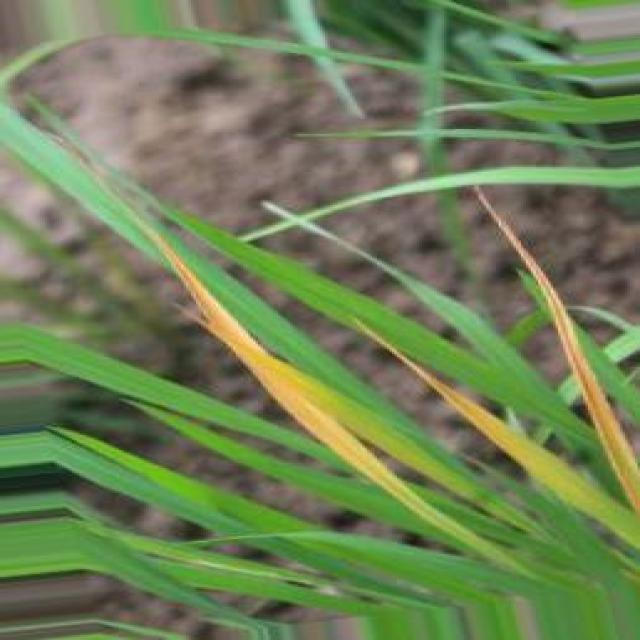Rice Tungro: (157, 236, 495, 556), (355, 321, 638, 547), (477, 186, 639, 513)
